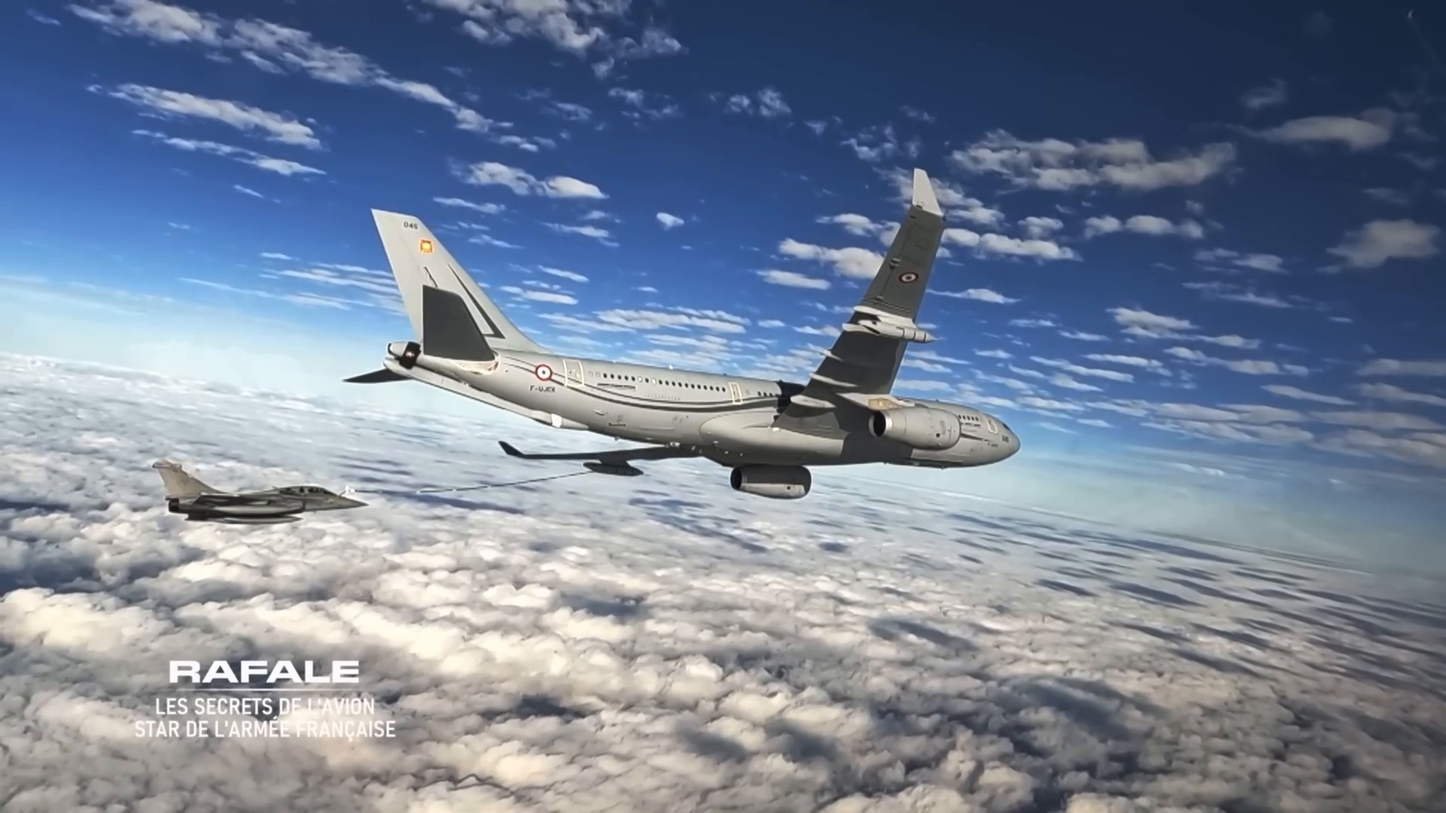Rafale: (148, 453, 369, 537)
